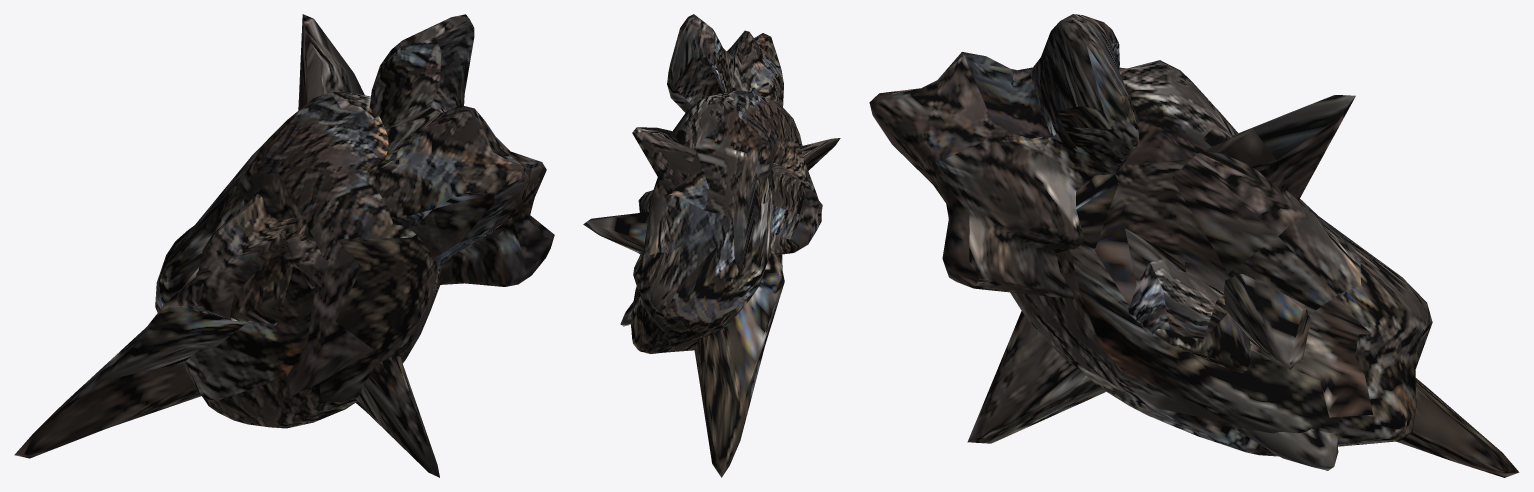
File: Rocks.fbx
3 views of the same model, side by side, from view 1: azimuth 30°, elevation 25°; view 2: azimuth 150°, elevation 25°; view 3: azimuth 270°, elevation 25° (orthographic). The views are drawn at different scales.
Visible parts, largest first — view 1: Rock3, Rock2, Rock1; view 2: Rock3, Rock1, Rock2; view 3: Rock3, Rock2, Rock1.
Part boxes in pixels (<box>): Rock3: <box>155,92,442,428</box>; Rock2: <box>176,14,554,325</box>; Rock1: <box>14,14,439,477</box>; Rock3: <box>631,90,802,353</box>; Rock1: <box>583,127,840,477</box>; Rock2: <box>638,14,821,254</box>; Rock3: <box>1010,60,1432,456</box>; Rock2: <box>869,14,1250,371</box>; Rock1: <box>967,95,1519,477</box>.
Bounding box in the file's own units: 2581 × 3961 × 3968.
